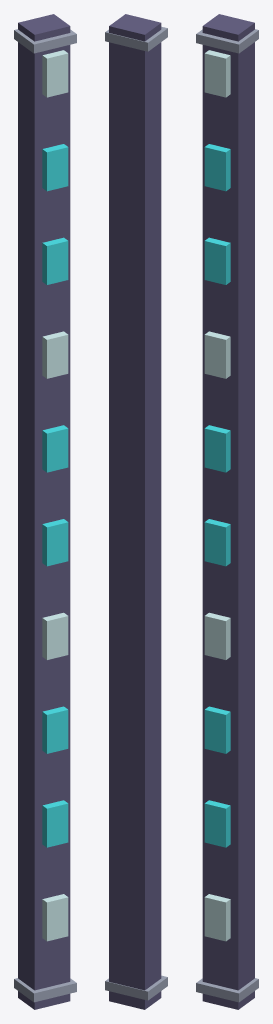
File: columna_led_cian.glb
3 renders of one model, left to right at view 1: azimuth 30°, elevation 25°; view 2: azimuth 150°, elevation 25°; view 3: azimuth 330°, elevation 25°, orthographic.
Visible parts, largest first — view 1: columna_led_cian; view 2: columna_led_cian; view 3: columna_led_cian.
Boxes of the visible parts, box(x1,y1,x2,y2) form: columna_led_cian: box(14, 14, 76, 1009); columna_led_cian: box(105, 14, 167, 1009); columna_led_cian: box(196, 14, 258, 1009).
Bounding box in the file's own units: 0.6 × 13 × 0.535.
